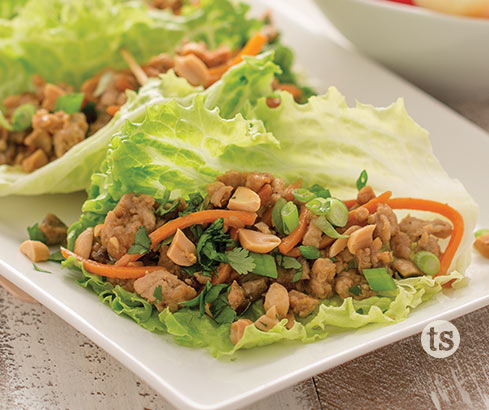chopped lettuce: (124, 92, 412, 182), (100, 296, 420, 350), (27, 6, 241, 56)
